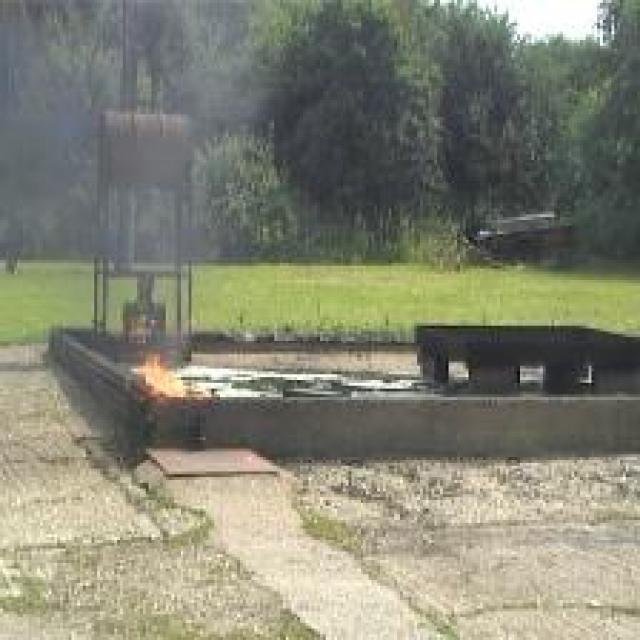Fire: (142, 353, 198, 396)
